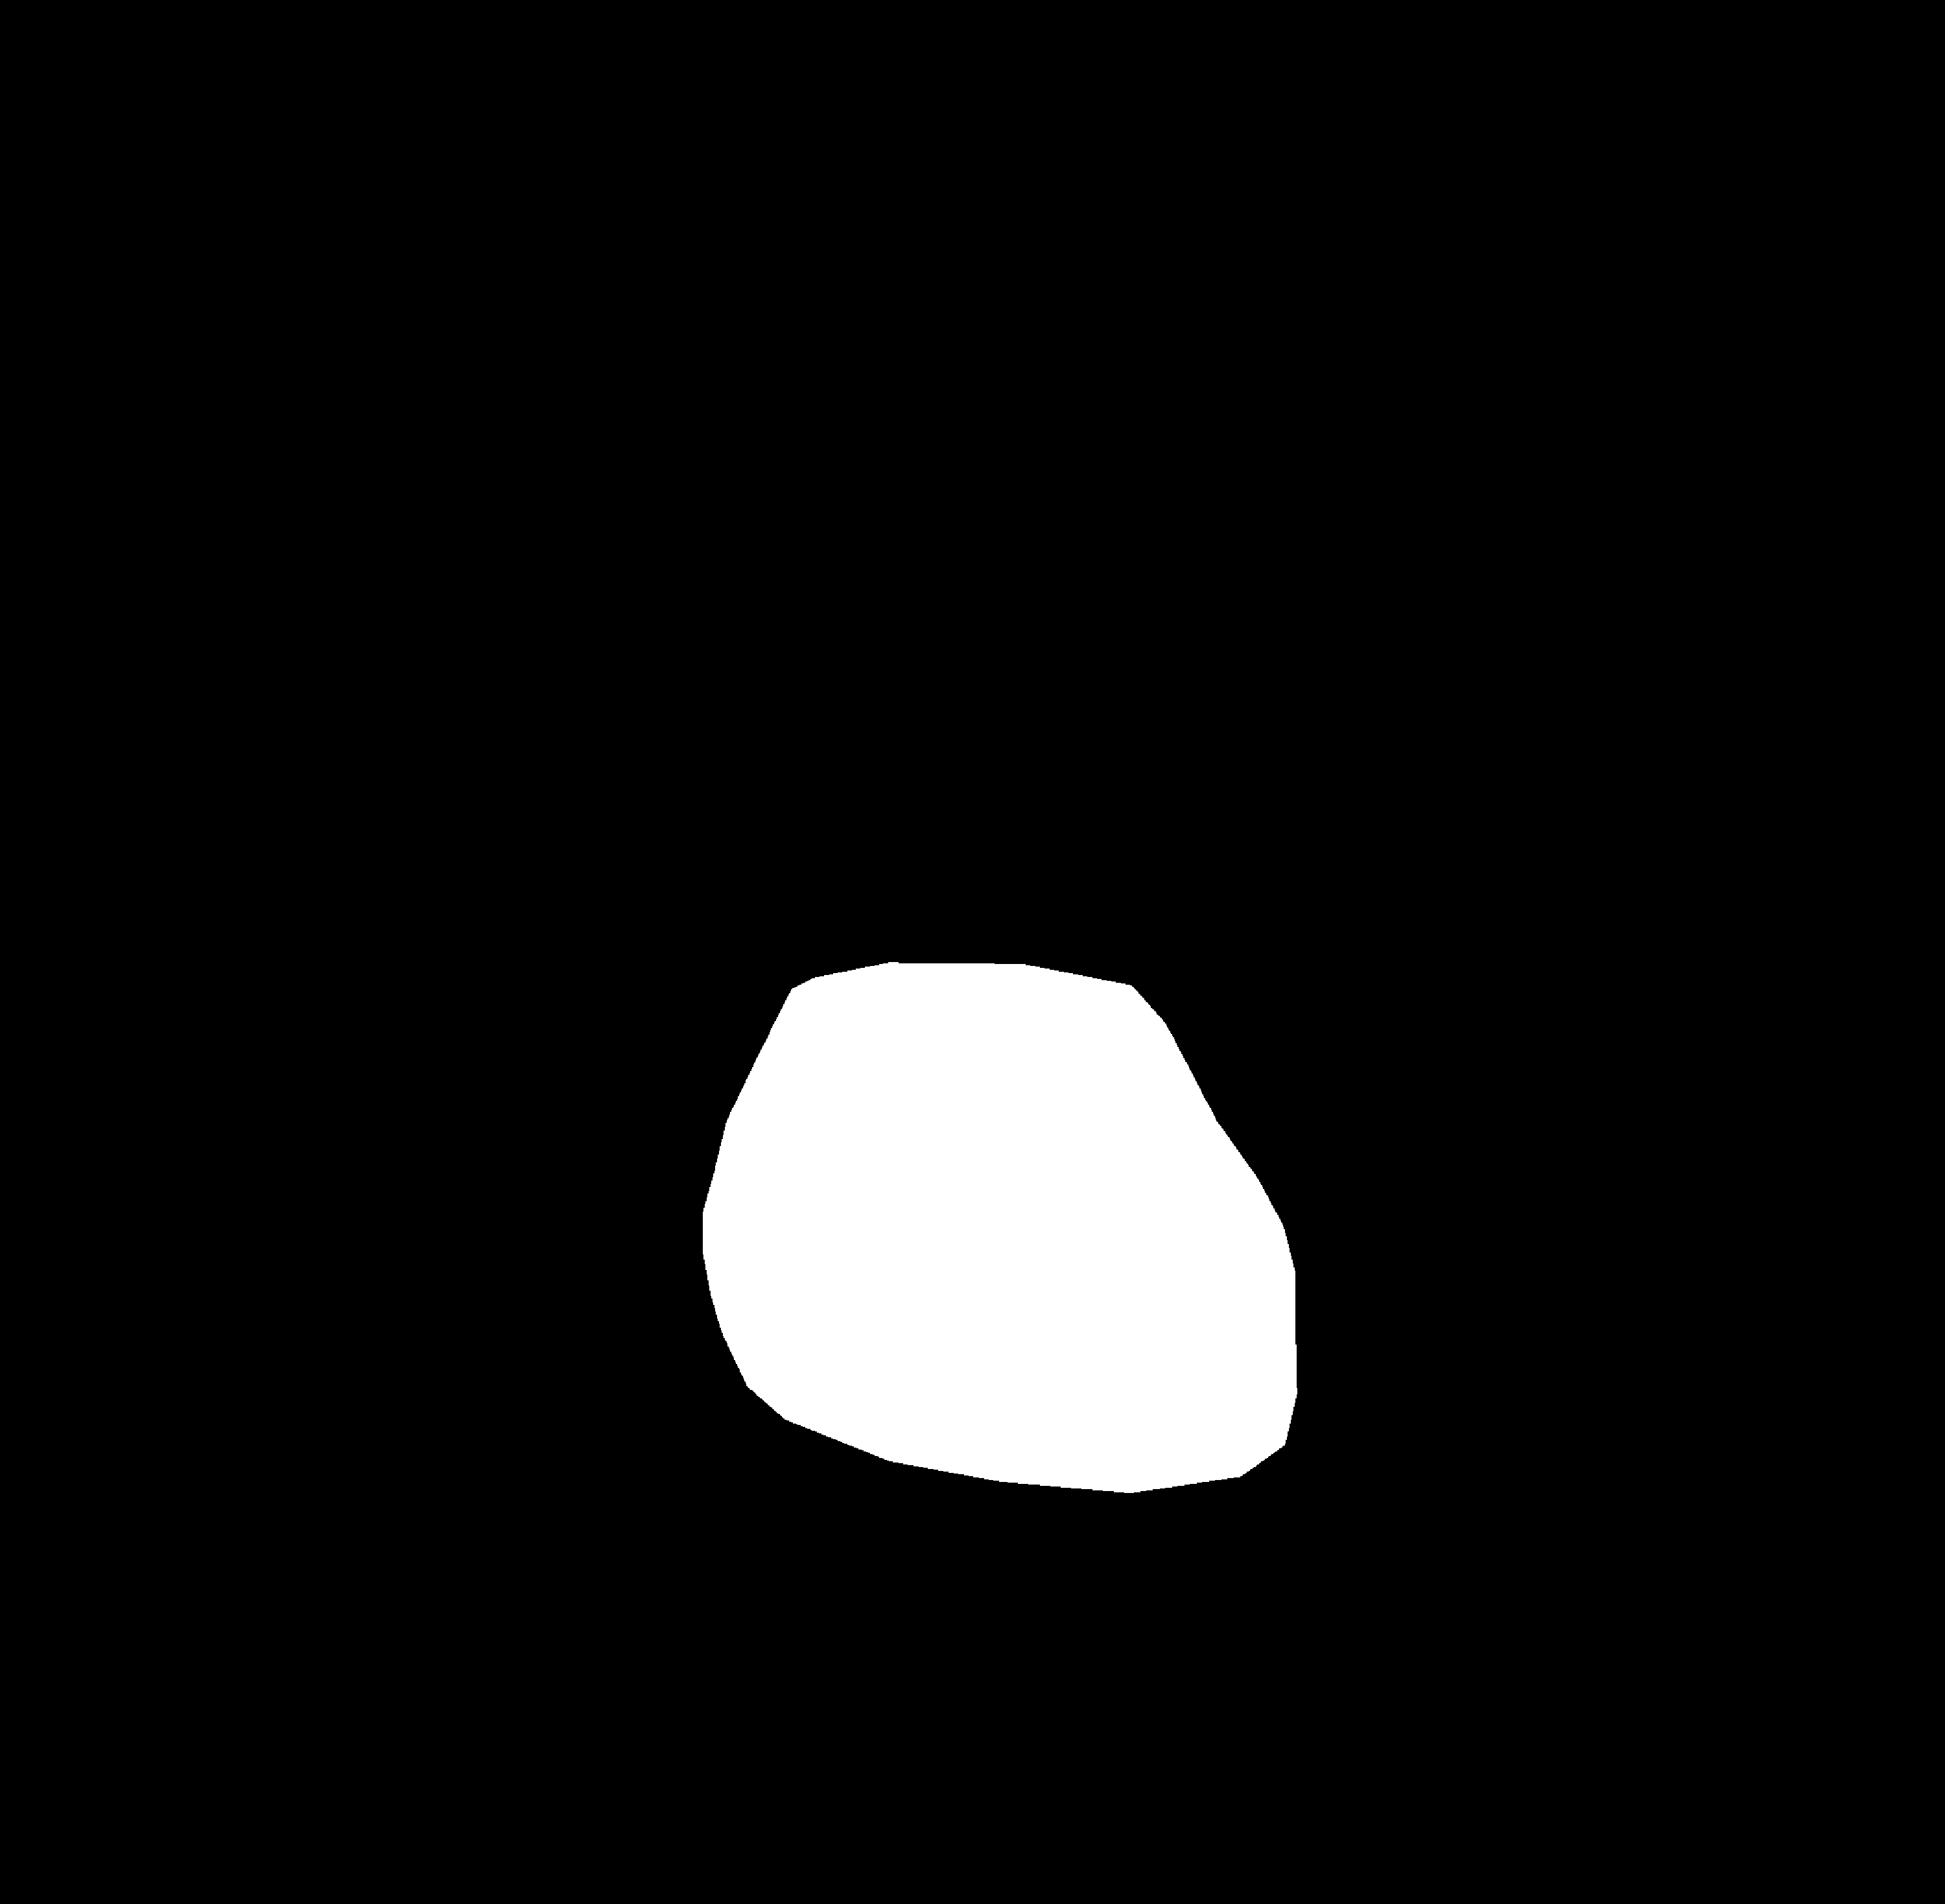heart: (705, 1050, 1296, 1494)
left_lung: (269, 337, 884, 1676)
right_lung: (987, 326, 1559, 1705)
